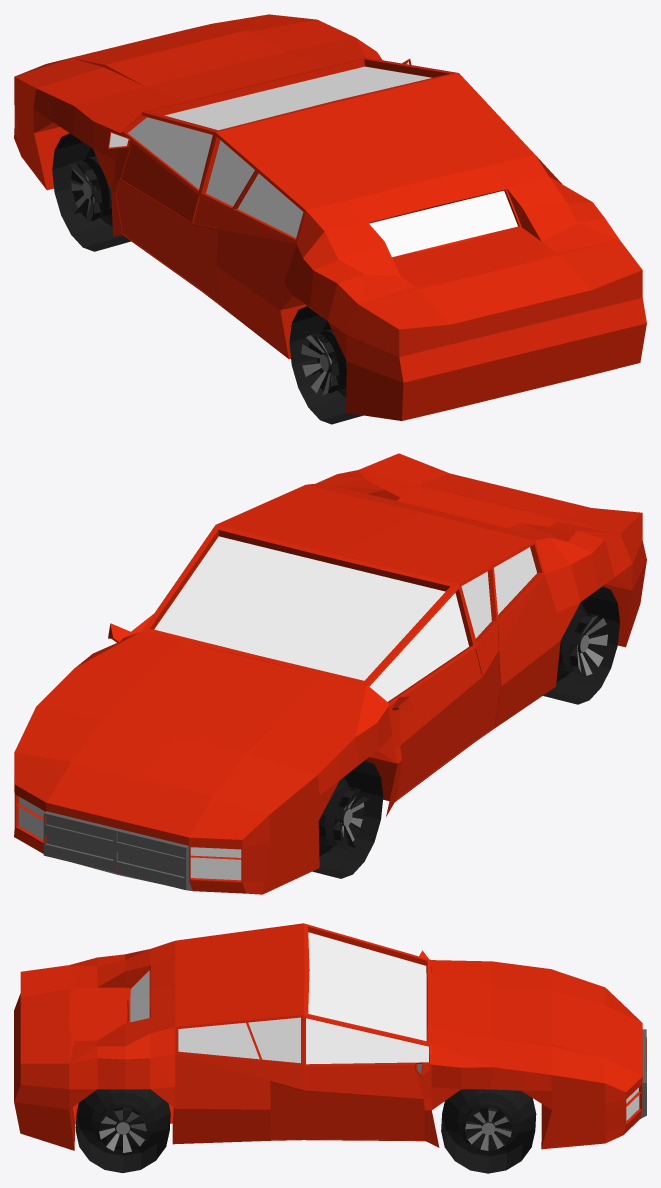
Rendered from carro.glb.
3 views of the same model, one above another, from view 1: azimuth 30°, elevation 25°; view 2: azimuth 150°, elevation 25°; view 3: azimuth 270°, elevation 25° (orthographic). The views are drawn at different scales.
Parts seen in each view (by area): view 1: Cube; view 2: Cube; view 3: Cube.
Boxes of the visible parts, x1,y1,x2,y2 form: Cube: (14, 14, 646, 424); Cube: (14, 453, 646, 894); Cube: (14, 923, 646, 1173).
Size of the model in its own units: 3.42 by 2.14 by 7.96.
